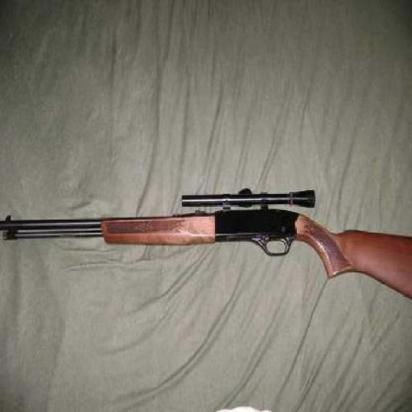Gun: (1, 177, 411, 301)
